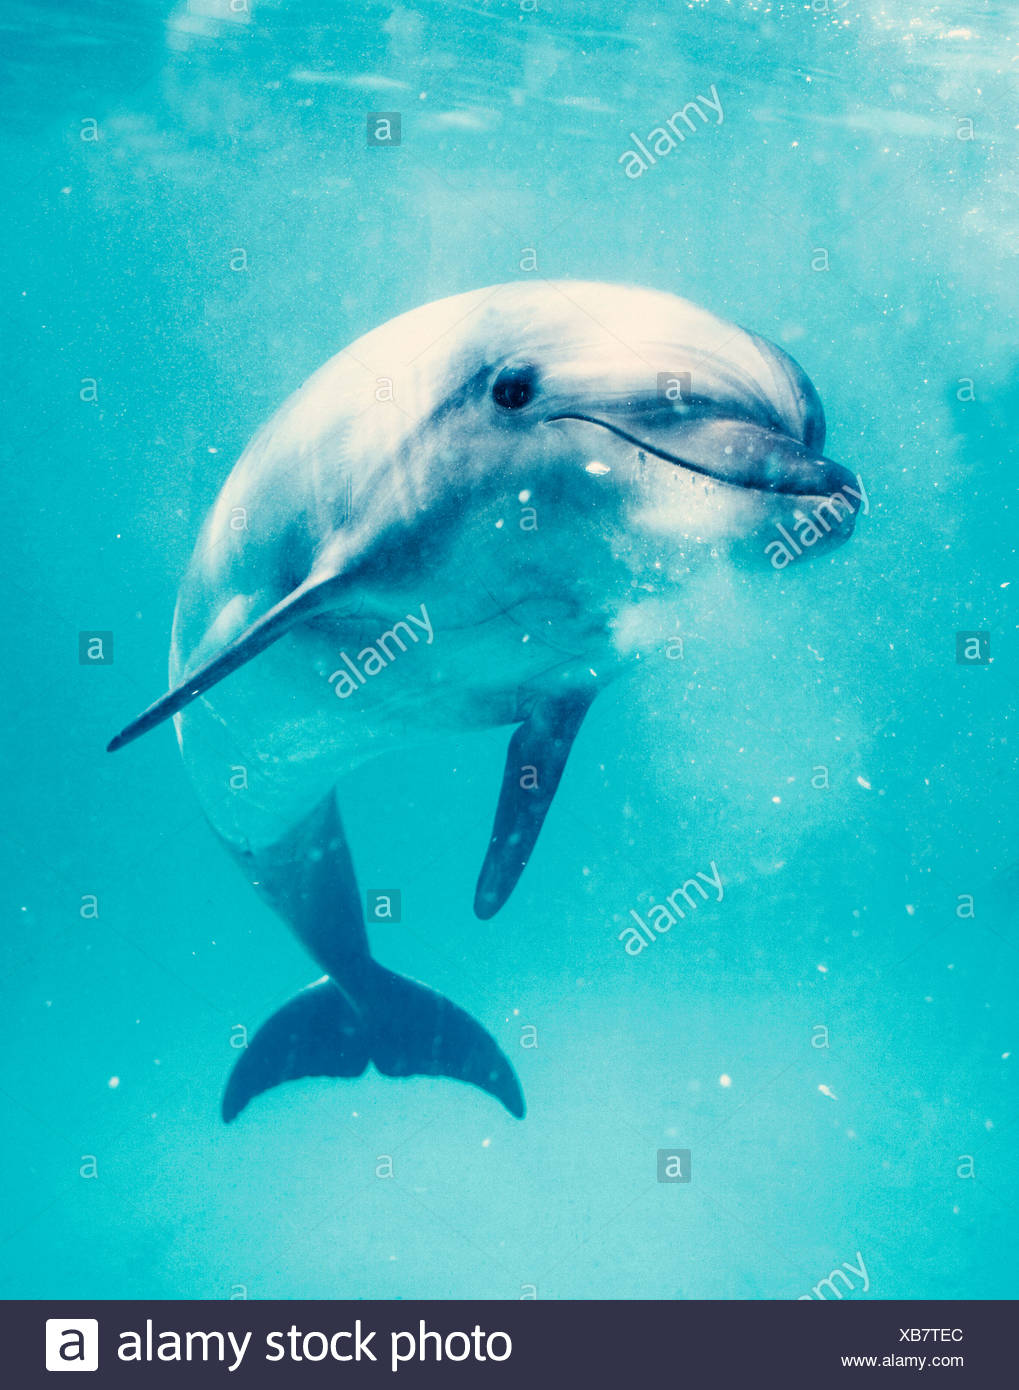dolphin: (91, 230, 872, 1155)
